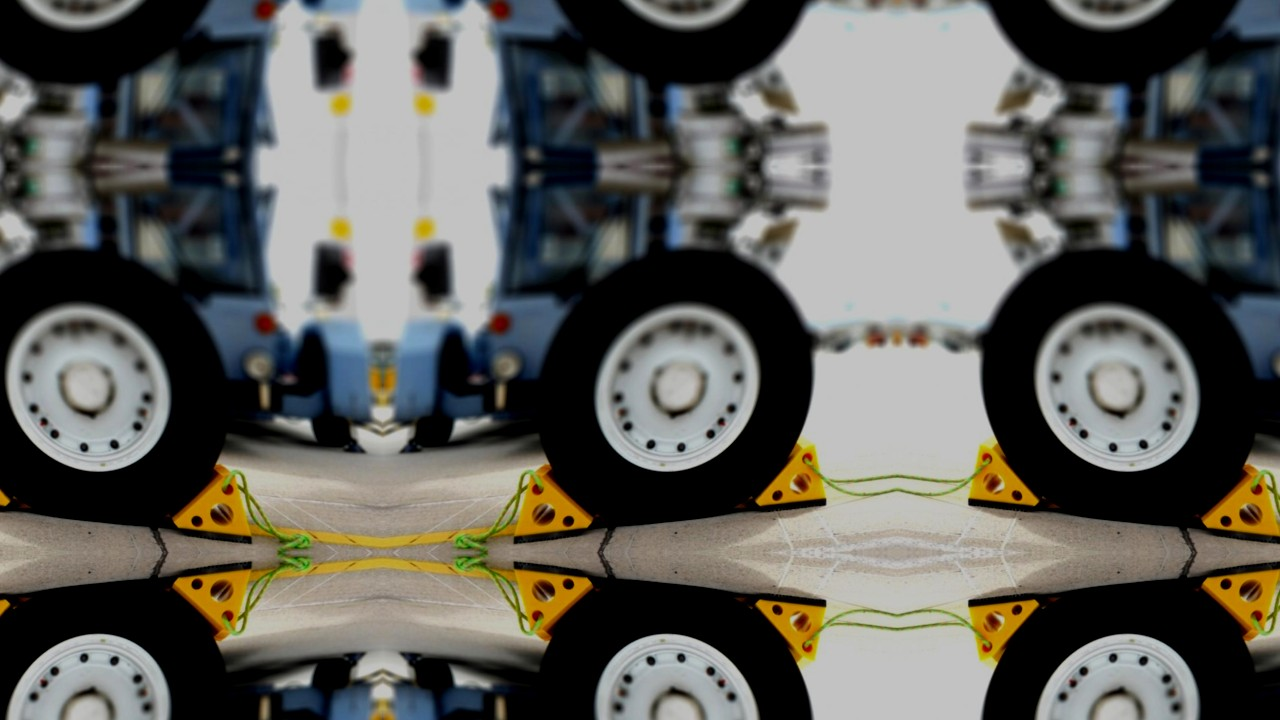chock: (156, 458, 260, 543), (505, 458, 609, 543), (156, 563, 260, 648), (505, 563, 609, 648), (1186, 458, 1280, 543), (1186, 563, 1280, 648), (743, 431, 835, 514), (960, 431, 1052, 514), (743, 592, 835, 675), (960, 592, 1052, 675), (0, 431, 22, 514), (0, 592, 22, 675)
wheel: (516, 242, 834, 537), (961, 242, 1279, 537), (0, 242, 249, 537), (516, 569, 834, 720), (961, 569, 1279, 720), (0, 569, 249, 720), (516, 0, 834, 91), (961, 0, 1279, 91), (0, 0, 249, 91), (310, 416, 353, 447), (412, 416, 455, 447), (310, 659, 353, 690), (412, 659, 455, 690)
